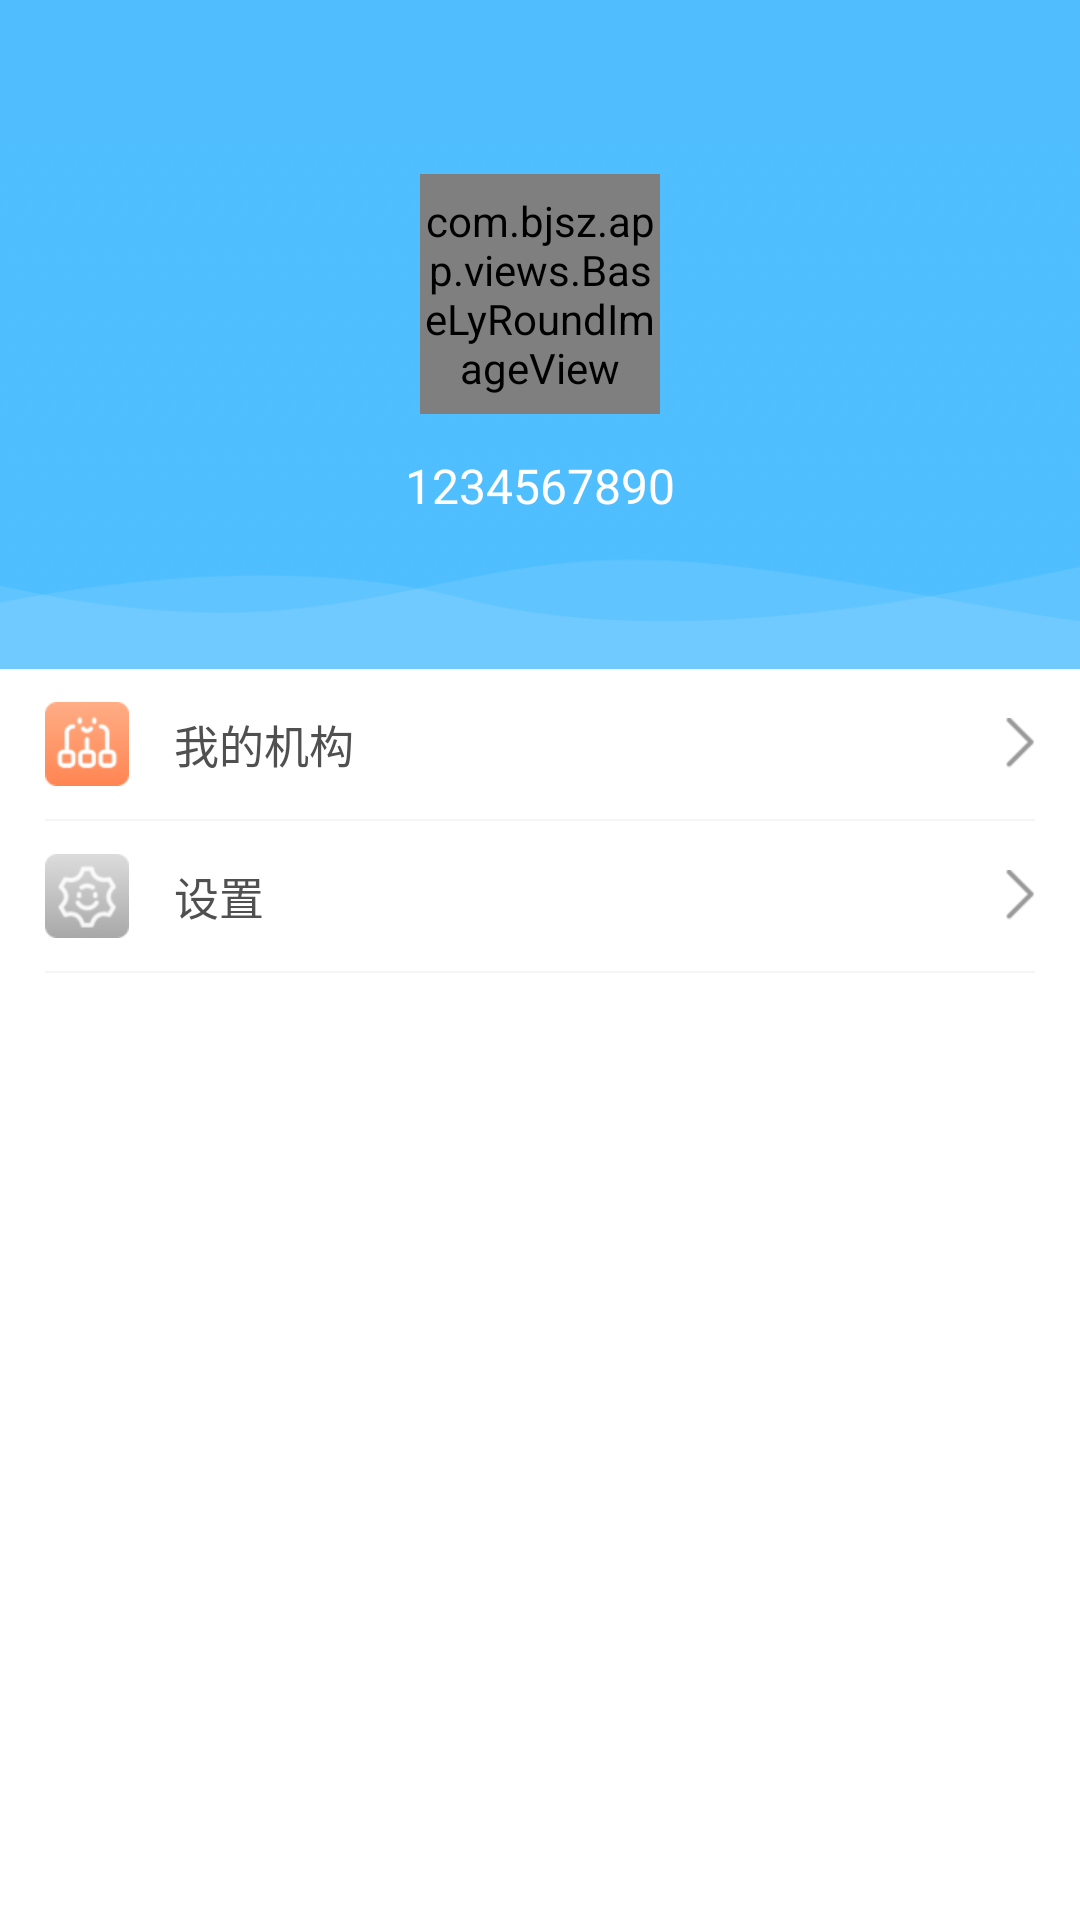

Locate icon controls on the screen. Image size 1080*1920, boxes as (x1, y1, x2, y2).
mechanism: (45, 702, 129, 786)
right: (1006, 718, 1034, 767), (1006, 870, 1034, 919)
seting: (45, 854, 129, 938)
